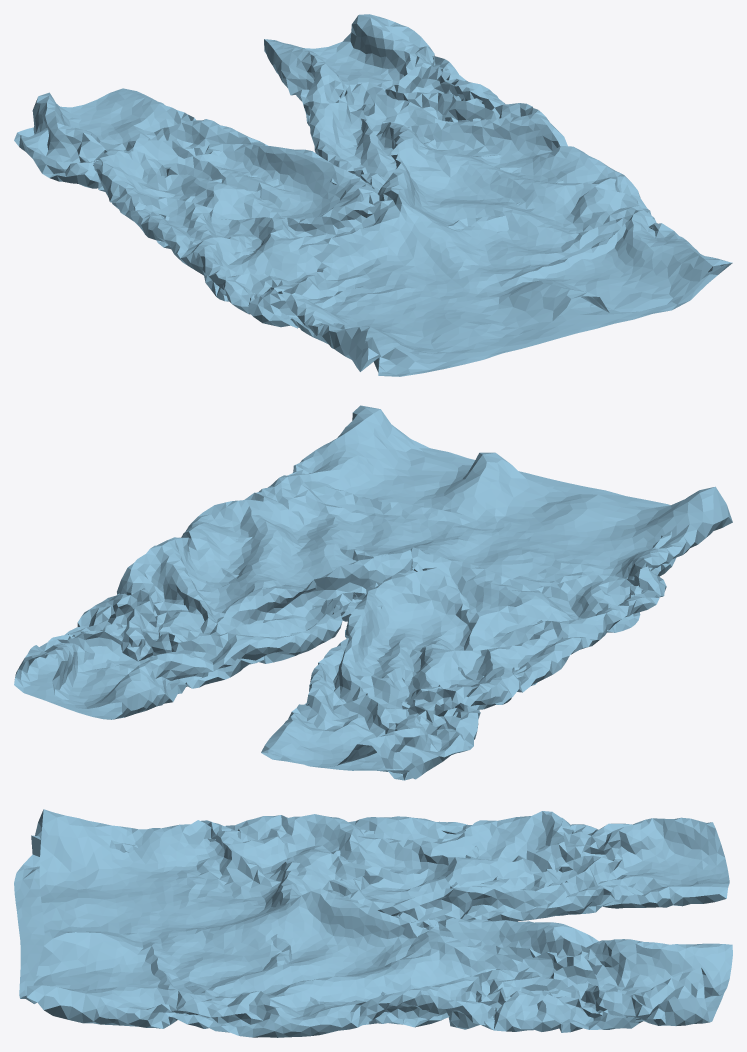
File: frame_01.glb
3 views of the same model, one above another, from view 1: azimuth 30°, elevation 25°; view 2: azimuth 150°, elevation 25°; view 3: azimuth 270°, elevation 25° (orthographic).
Visible parts, largest first — view 1: frame_01.obj; view 2: frame_01.obj; view 3: frame_01.obj.
Part boxes in pixels (<box>): frame_01.obj: <box>14,14,732,376</box>; frame_01.obj: <box>14,405,732,780</box>; frame_01.obj: <box>14,809,732,1037</box>.
Bounding box in the file's own units: 1.19 × 0.1296 × 1.75.
